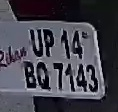1: (59, 28, 71, 62), (65, 61, 76, 94)
3: (87, 63, 99, 95)
4: (70, 28, 85, 60), (75, 62, 89, 94)
7: (53, 60, 67, 94)
B: (24, 59, 37, 91)
P: (43, 27, 56, 59)
Q: (36, 60, 52, 92)
U: (28, 27, 43, 58)
